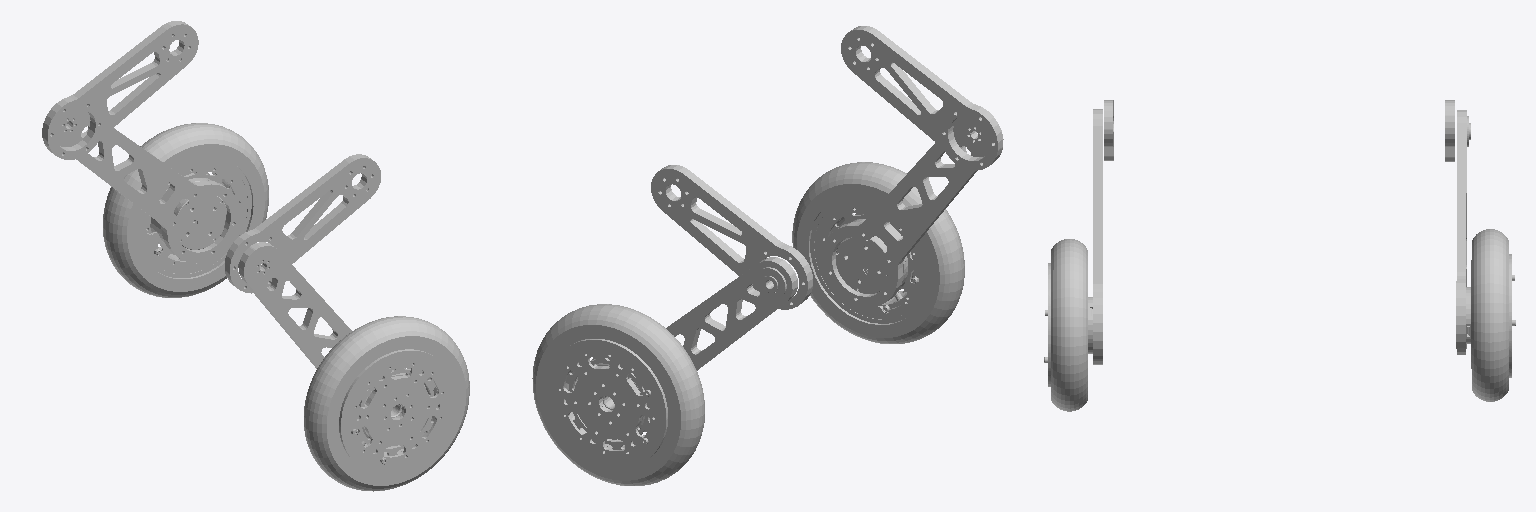
URDF robot description (robot):
<?xml version="1.0" ?>
<!-- =================================================================================== -->
<!-- |    This document was autogenerated by xacro from test.xacro                     | -->
<!-- |    EDITING THIS FILE BY HAND IS NOT RECOMMENDED                                 | -->
<!-- =================================================================================== -->
<robot>
  <!-- 各个link -->
  <link name="base_link">
    <inertial>
      <origin rpy="0 0 0" xyz="-0.00112 0.03727 -0.00505"/>
      <mass value="2.2956"/>
      <!-- mass kg -->
      <inertia ixx="0.003765" ixy="-8.39e-6" ixz="1.11e-7" iyy="0.009989" iyz="-7.96e-8" izz="0.008215"/>
      <!-- mass martrix -->
    </inertial>
    <visual>
      <origin rpy="1.57 0 3.14" xyz="0 0 0"/>
      <geometry>
        <mesh filename="../meshes/base_link.STL"/>
      </geometry>
      <material name="silver">
        <color rgba="0.8 0.8 0.8 1"/>
      </material>
    </visual>
    <collision>
      <origin rpy="1.57 0 3.14" xyz="0 0 0"/>
      <geometry>
        <mesh filename="../meshes/base_link.STL"/>
      </geometry>
    </collision>
  </link>
  <link name="thigh1_Link">
    <inertial>
      <origin rpy="0 0 0" xyz="0.055 -0.0634 -0.0216"/>
      <mass value="0.1971"/>
      <inertia ixx="0.000242" ixy="0.000152" ixz="0" iyy="0.000196" iyz="0" izz="0.000432"/>
    </inertial>
    <visual>
      <origin rpy="0 0 0" xyz="0 0 0"/>
      <geometry>
        <mesh filename="../meshes/thigh1_Link.STL"/>
      </geometry>
      <material name="blue">
        <color rgba="0.8 0.8 0.8 1"/>
      </material>
    </visual>
    <collision>
      <origin rpy="0 0 0" xyz="0 0 0"/>
      <geometry>
        <mesh filename="../meshes/thigh1_Link.STL"/>
      </geometry>
    </collision>
  </link>
  <link name="calf1_Link">
    <inertial>
      <origin rpy="0 0 0" xyz="-0.129 -0.0864 -0.0114"/>
      <mass value="0.2084"/>
      <inertia ixx="0.000443" ixy="-0.000512" ixz="0" iyy="0.000859" iyz="0" izz="0.001298"/>
    </inertial>
    <visual>
      <origin rpy="0 0 0" xyz="0 0 0"/>
      <geometry>
        <mesh filename="../meshes/calf1_Link.STL"/>
      </geometry>
      <material name="silver">
        <color rgba="0.8 0.8 0.8 1"/>
      </material>
    </visual>
    <collision>
      <origin rpy="0 0 0" xyz="0 0 0"/>
      <geometry>
        <mesh filename="../meshes/calf1_Link.STL"/>
      </geometry>
    </collision>
  </link>
  <link name="wheel1_Link">
    <inertial>
      <origin rpy="0 0 0" xyz="0 0 0.025"/>
      <mass value="1.2715"/>
      <inertia ixx="0.00354" ixy="0" ixz="0" iyy="0.00354" iyz="0" izz="0.00682"/>
    </inertial>
    <visual>
      <origin rpy="0 0 0" xyz="0 0 0"/>
      <geometry>
        <mesh filename="../meshes/wheel1_Link.STL"/>
      </geometry>
      <material name="red">
        <color rgba="0.8 0.8 0.8 1"/>
      </material>
    </visual>
    <collision>
      <origin rpy="0 0 0" xyz="0 0 0"/>
      <geometry>
        <mesh filename="../meshes/wheel1_Link.STL"/>
      </geometry>
    </collision>
  </link>
  <link name="thigh2_Link">
    <inertial>
      <origin rpy="0 0 0" xyz="0.0769 -0.0337 0.0216"/>
      <mass value="0.1971"/>
      <inertia ixx="0.000114" ixy="0.000112" ixz="0" iyy="0.000324" iyz="0" izz="0.000432"/>
    </inertial>
    <visual>
      <origin rpy="0 0 0" xyz="0 0 0"/>
      <geometry>
        <mesh filename="../meshes/thigh2_Link.STL"/>
      </geometry>
      <material name="blue">
        <color rgba="0.8 0.8 0.8 1"/>
      </material>
    </visual>
    <collision>
      <origin rpy="0 0 0" xyz="0 0 0"/>
      <geometry>
        <mesh filename="../meshes/thigh2_Link.STL"/>
      </geometry>
    </collision>
  </link>
  <link name="calf2_Link">
    <inertial>
      <origin rpy="0 0 0" xyz="-0.115 0.104 -0.0114"/>
      <mass value="0.2084"/>
      <inertia ixx="0.000596" ixy="0.000549" ixz="0" iyy="0.000706" iyz="0" izz="0.001298"/>
    </inertial>
    <visual>
      <origin rpy="0 0 0" xyz="0 0 0"/>
      <geometry>
        <mesh filename="../meshes/calf2_Link.STL"/>
      </geometry>
      <material name="silver">
        <color rgba="0.8 0.8 0.8 1"/>
      </material>
    </visual>
    <collision>
      <origin rpy="0 0 0" xyz="0 0 0"/>
      <geometry>
        <mesh filename="../meshes/calf2_Link.STL"/>
      </geometry>
    </collision>
  </link>
  <link name="wheel2_Link">
    <inertial>
      <origin rpy="0 0 0" xyz="0 0 0.025"/>
      <mass value="1.2715"/>
      <inertia ixx="0.00354" ixy="0" ixz="0" iyy="0.00354" iyz="0" izz="0.00682"/>
    </inertial>
    <visual>
      <origin rpy="0 0 0" xyz="0 0 0"/>
      <geometry>
        <mesh filename="../meshes/wheel2_Link.STL"/>
      </geometry>
      <material name="red">
        <color rgba="0.8 0.8 0.8 1"/>
      </material>
    </visual>
    <collision>
      <origin rpy="0 0 0" xyz="0 0 0"/>
      <geometry>
        <mesh filename="../meshes/wheel2_Link.STL"/>
      </geometry>
    </collision>
  </link>
  <!-- joints -->
  <joint name="joint1" type="revolute">
    <origin rpy="1.57 0 3.14" xyz="-0.054991 -0.179 0.060002"/>
    <parent link="base_link"/>
    <child link="thigh1_Link"/>
    <axis xyz="0 0 1"/>
    <limit effort="1" lower="5.9" upper="7.39" velocity="1"/>
    <dynamics damping="1"/>
    <initial_position>6.2</initial_position>
  </joint>
  <joint name="joint2" type="revolute">
    <origin rpy="-3.1416 0 1.5708" xyz="0.098406 -0.11321 -0.0508"/>
    <parent link="thigh1_Link"/>
    <child link="calf1_Link"/>
    <axis xyz="0 0 -1"/>
    <limit effort="1" lower="5" upper="6.74" velocity="1"/>
    <dynamics damping="1"/>
    <initial_position>0</initial_position>
  </joint>
  <joint name="joint3" type="continuous">
    <origin rpy="3.1416 0 1.5708" xyz="-0.19921 -0.13384 0.0502"/>
    <parent link="calf1_Link"/>
    <child link="wheel1_Link"/>
    <axis xyz="0 0 -1"/>
    <limit effort="0" lower="0" upper="0" velocity="0"/>
    <dynamics damping="1"/>
    <initial_position>0</initial_position>
  </joint>
  <joint name="joint4" type="revolute">
    <origin rpy="1.57 0 3.14" xyz="-0.054991 0.179 0.060002"/>
    <parent link="base_link"/>
    <child link="thigh2_Link"/>
    <axis xyz="0 0 1"/>
    <limit effort="1" lower="5.45" upper="6.95" velocity="1"/>
    <dynamics damping="1"/>
    <initial_position>6.2</initial_position>
  </joint>
  <joint name="joint5" type="revolute">
    <origin rpy="0 0 1.5708" xyz="0.13731 -0.06037 0.0523"/>
    <parent link="thigh2_Link"/>
    <child link="calf2_Link"/>
    <axis xyz="0 0 1"/>
    <limit effort="1" lower="-0.68" upper="1.06" velocity="1"/>
    <dynamics damping="1"/>
    <initial_position>0</initial_position>
  </joint>
  <joint name="joint6" type="continuous">
    <origin rpy="3.14159265358979 0 1.5707963267949" xyz="-0.177825913114533 0.161176749639925 0.0502000000001869"/>
    <parent link="calf2_Link"/>
    <child link="wheel2_Link"/>
    <axis xyz="0 0 1"/>
    <limit effort="0" lower="0" upper="0" velocity="0"/>
    <dynamics damping="1"/>
    <initial_position>0</initial_position>
  </joint>
</robot>

--- What the picture shows (computed from the rendered views, not written in the file) ---
The picture shows the robot from 3 angles, left to right: view 1: azimuth 30°, elevation 25°; view 2: azimuth 150°, elevation 25°; view 3: azimuth 270°, elevation 25°; orthographic projection.
Robot: robot — 7 links, 6 joints (4 revolute, 2 continuous); root link base_link; default pose: all joints at 0 but 3 set to mid-range because 0 is outside their limits (joint1 = 6.64, joint2 = 5.87, joint4 = 6.2).
Links seen in each view (by area): view 1: wheel1_Link, wheel2_Link, calf2_Link, thigh2_Link, thigh1_Link, calf1_Link; view 2: wheel2_Link, wheel1_Link, calf1_Link, thigh1_Link, thigh2_Link, calf2_Link; view 3: wheel2_Link, wheel1_Link, calf1_Link, calf2_Link, thigh2_Link, thigh1_Link.
Boxes of the visible links, x1,y1,x2,y2 form: wheel1_Link: (304, 316, 469, 491); wheel2_Link: (103, 123, 268, 297); calf2_Link: (56, 108, 240, 262); thigh2_Link: (42, 21, 198, 159); thigh1_Link: (225, 154, 380, 293); calf1_Link: (238, 242, 405, 368); wheel2_Link: (532, 304, 704, 485); wheel1_Link: (792, 162, 964, 343); calf1_Link: (822, 117, 988, 307); thigh1_Link: (841, 26, 1003, 170); thigh2_Link: (651, 165, 812, 309); calf2_Link: (666, 257, 797, 370); wheel2_Link: (1466, 229, 1515, 401); wheel1_Link: (1044, 239, 1092, 411); calf1_Link: (1093, 109, 1102, 364); calf2_Link: (1456, 110, 1470, 354); thigh2_Link: (1445, 100, 1454, 161); thigh1_Link: (1104, 100, 1113, 160).
Bounding box of the posed robot: 0.3173 × 0.5695 × 0.3964 m (x, y, z).
6 mesh visuals loaded from 7 distinct referenced files (6 binary STL); not drawn: 1 (reference not matched to a file when rendering).
